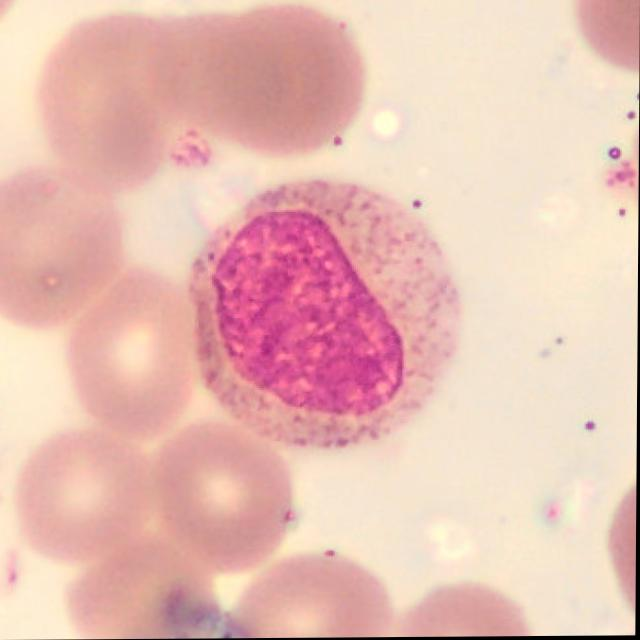Mielocito: (190, 178, 462, 449)
